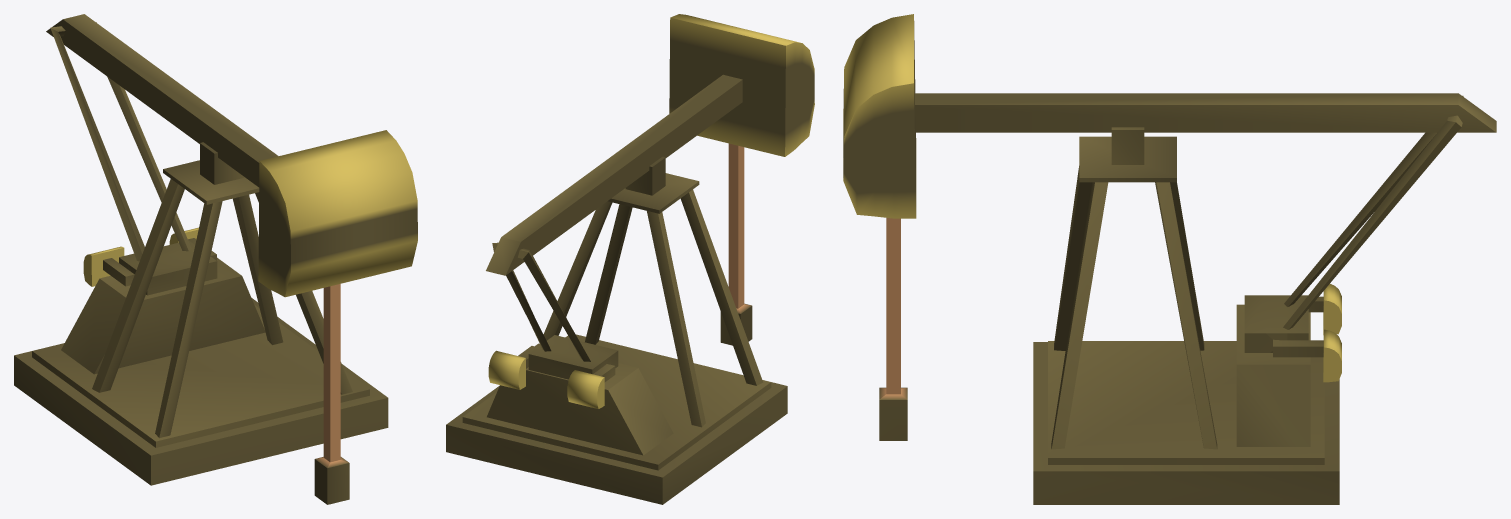
File: OilExtractor.fbx
3 views of the same model, side by side, from view 1: azimuth 30°, elevation 25°; view 2: azimuth 150°, elevation 25°; view 3: azimuth 270°, elevation 25° (orthographic). The views are drawn at different scales.
Parts seen in each view (by area): view 1: Oil Extractor Miniature; view 2: Oil Extractor Miniature; view 3: Oil Extractor Miniature.
Part boxes in pixels (x1,y1,x2,y2): Oil Extractor Miniature: (14, 14, 417, 504); Oil Extractor Miniature: (446, 14, 814, 504); Oil Extractor Miniature: (843, 14, 1496, 504).
Size of the model in its own units: 20 by 28.21 by 42.64.
